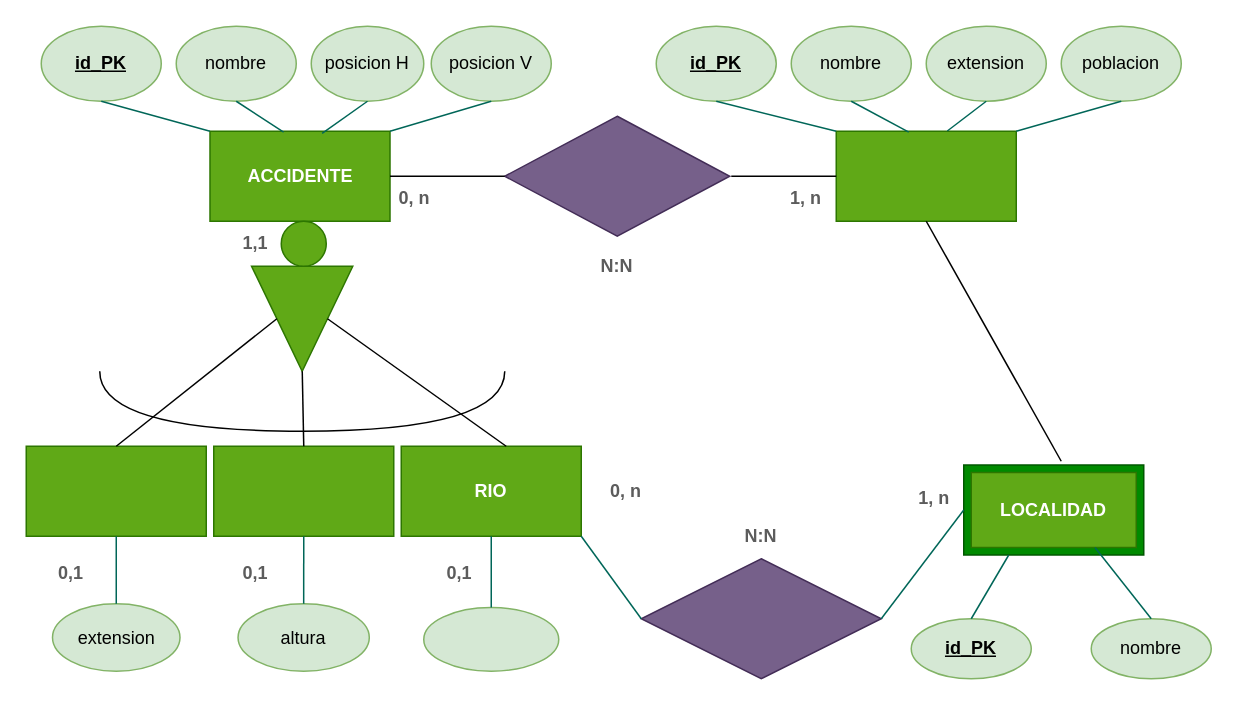
The diagram is 1238 pixels wide and 705 high, and some of its shapes have lost their labels. The centre of each missing label's shape, as x and y in pixels:
ESTAR: the point at 616,175
LAGO: the point at 115,490
longitud: the point at 490,638
MONTAÑA: the point at 303,490
PASAR: the point at 760,618
PAÍS: the point at 925,175
